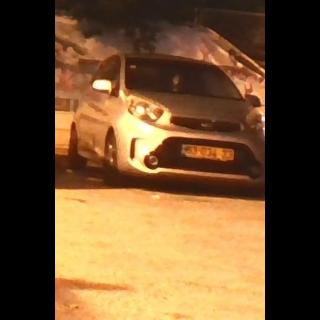LicensePlate: (183, 145, 235, 161)
